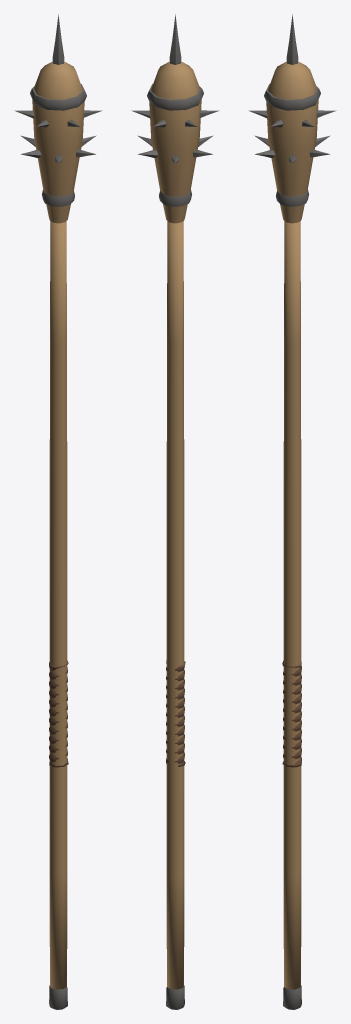
The model's file is planson.glb.
The picture shows the model from 3 angles, left to right: view 1: azimuth 30°, elevation 25°; view 2: azimuth 150°, elevation 25°; view 3: azimuth 330°, elevation 25°; orthographic projection.
Visible parts, largest first — view 1: planson; view 2: planson; view 3: planson.
Part boxes in pixels (left/top/right/bottom): planson: left=14, top=14, right=102, bottom=1009; planson: left=131, top=14, right=219, bottom=1009; planson: left=248, top=14, right=336, bottom=1009.
Size of the model in its own units: 0.4 by 4.93 by 0.4.
